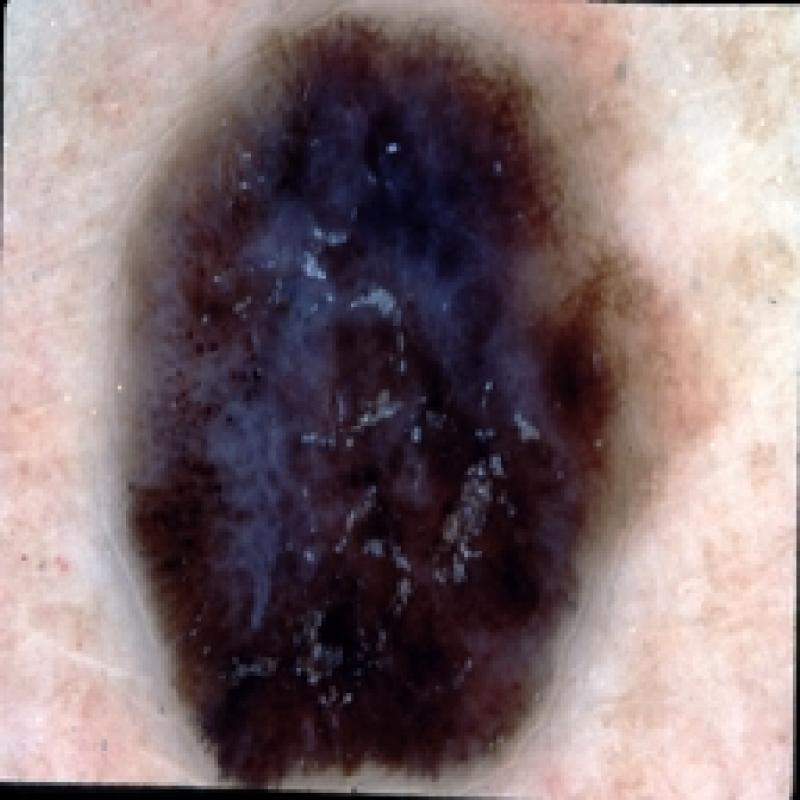malignant: (117, 10, 716, 786)
